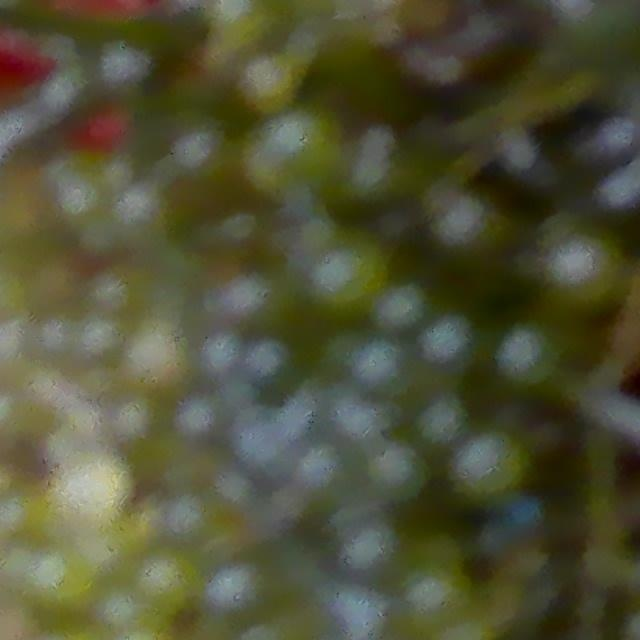SeaGrape: (310, 236, 389, 312), (29, 544, 97, 618), (454, 431, 527, 498), (135, 549, 196, 623), (363, 441, 427, 504), (415, 394, 468, 448), (420, 315, 472, 365), (376, 285, 426, 332)
